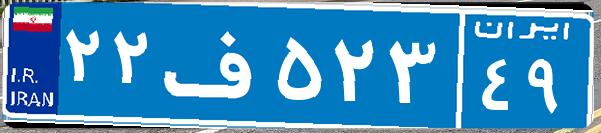2: (330, 28, 385, 110), (57, 26, 110, 107), (110, 28, 158, 105)
3: (385, 28, 445, 110)
4: (475, 38, 525, 113)
5: (273, 28, 330, 110)
9: (525, 38, 570, 115)
ف: (158, 15, 273, 115)
